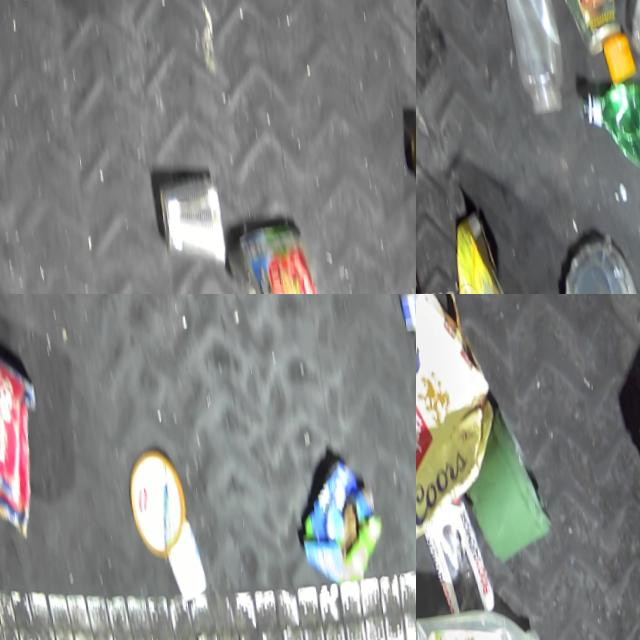can: (149, 170, 226, 277), (543, 0, 620, 59), (399, 109, 416, 221), (632, 604, 640, 640)
non_white_jug: (416, 601, 544, 640)
plastic_bottle: (388, 294, 416, 380)
